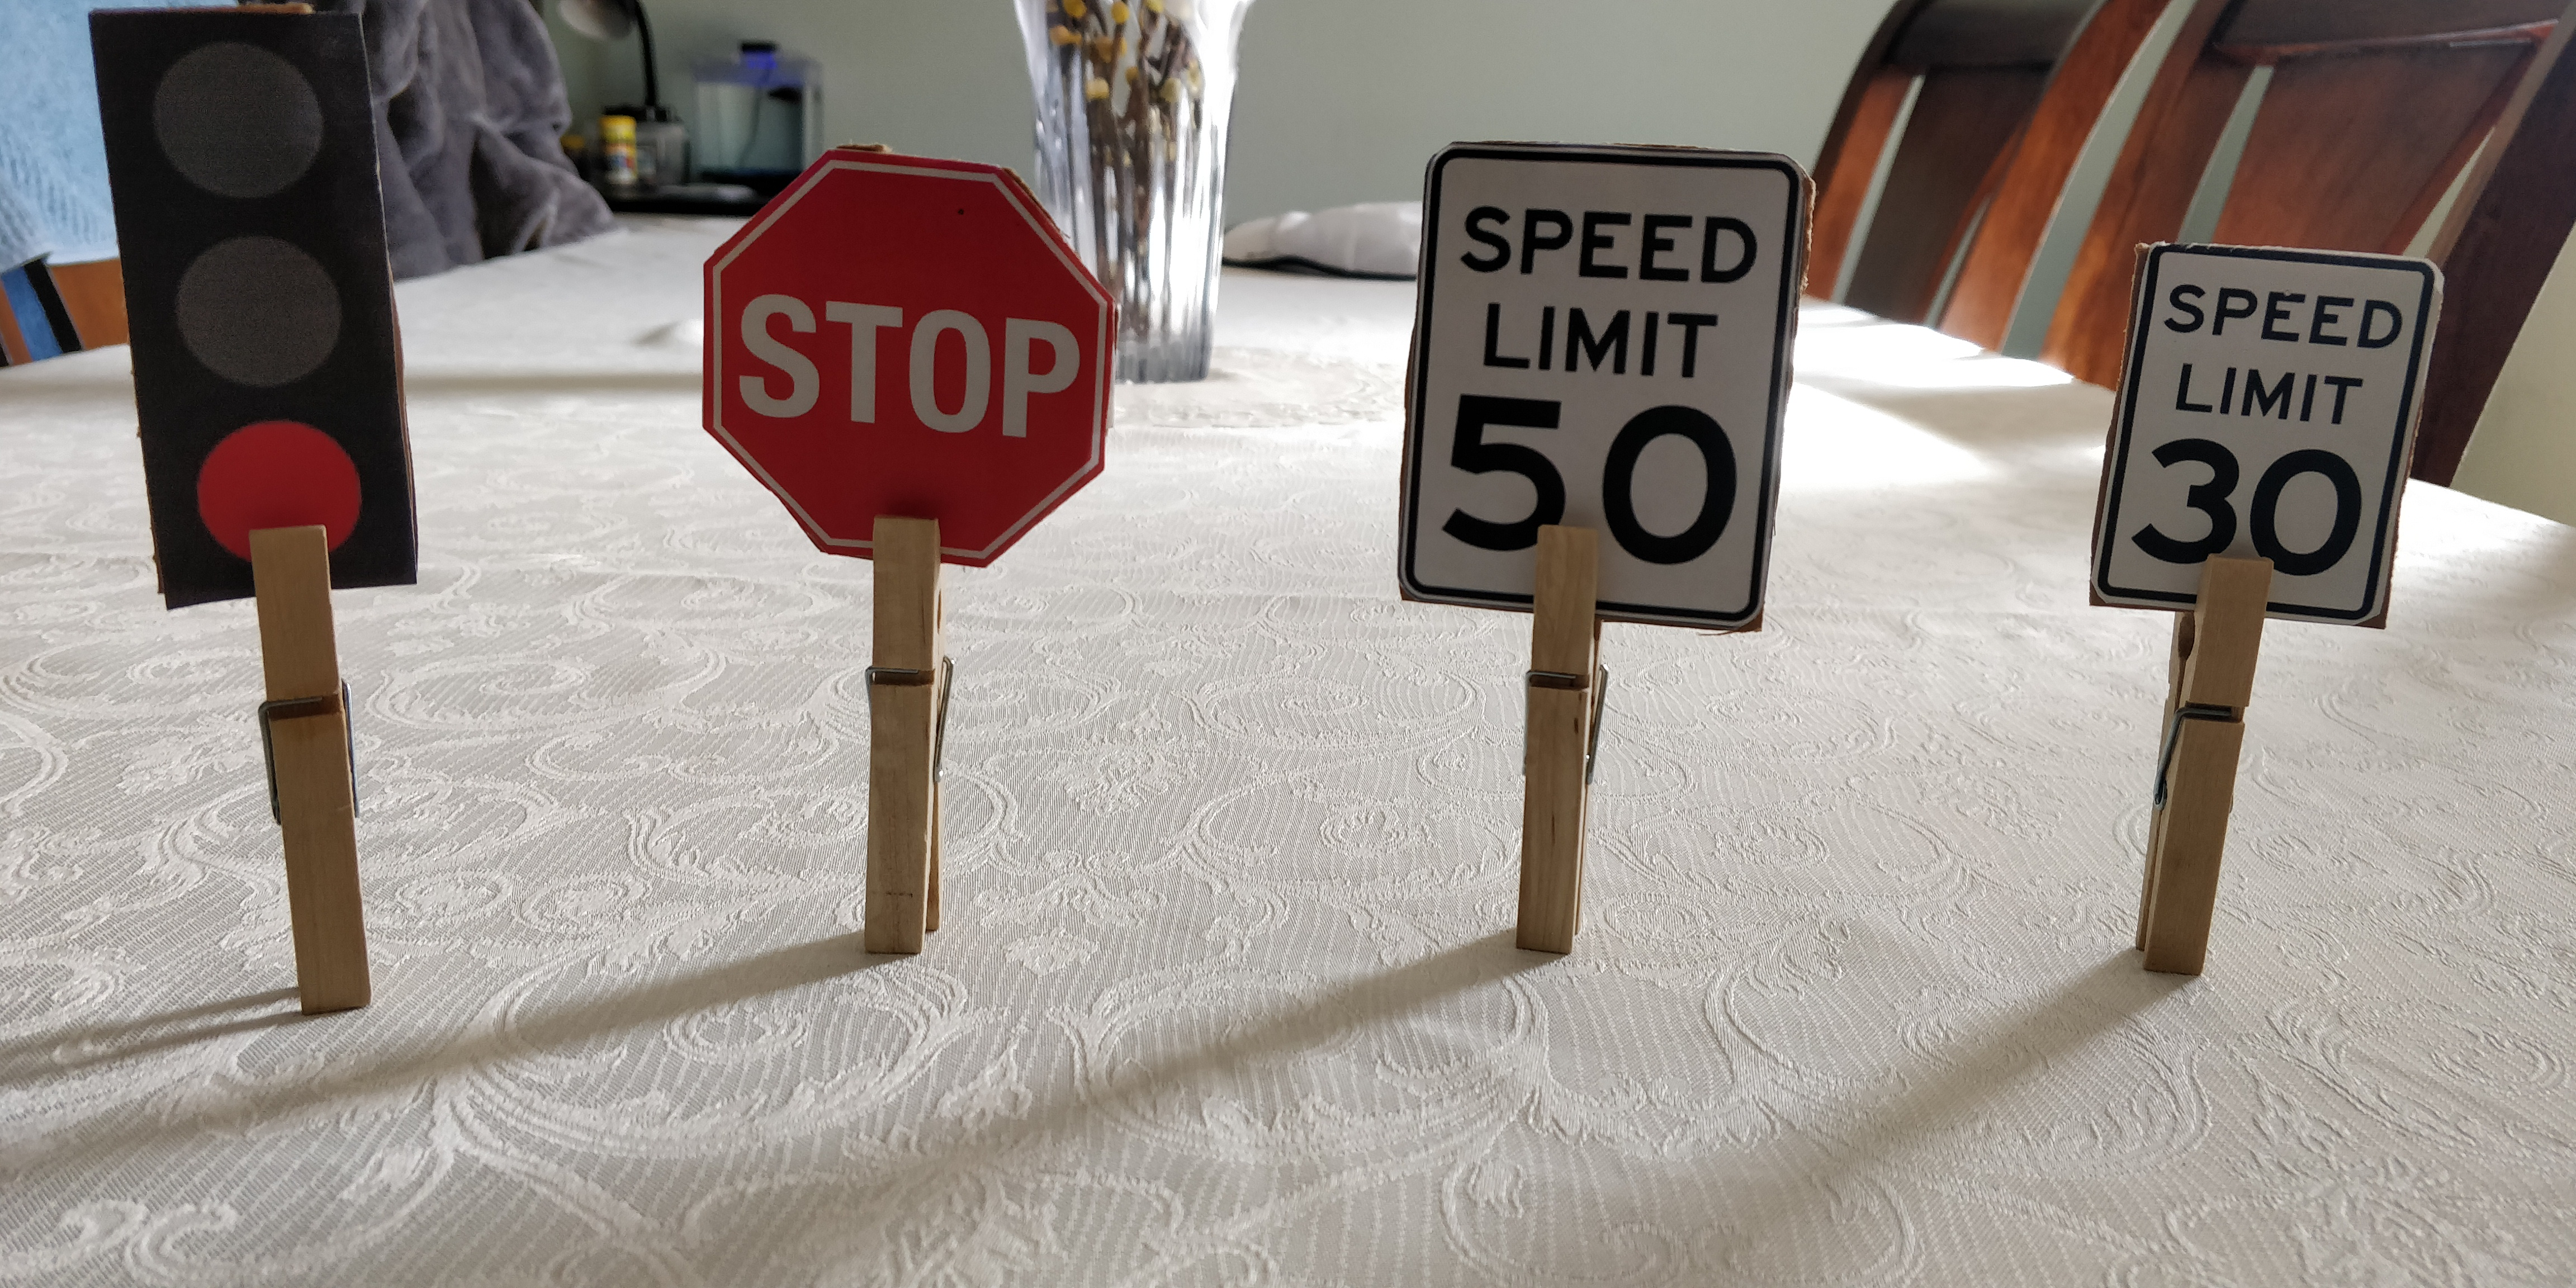Speed Limit 30: (2090, 243, 2441, 628)
Speed Limit 50: (1395, 141, 1810, 634)
Stop Sign: (703, 146, 1124, 567)
red light: (89, 13, 419, 603)
